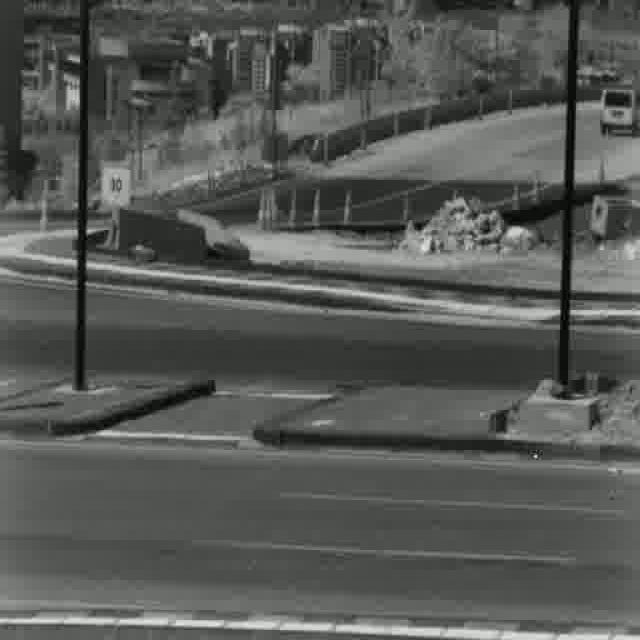Car: (600, 86, 639, 136)
